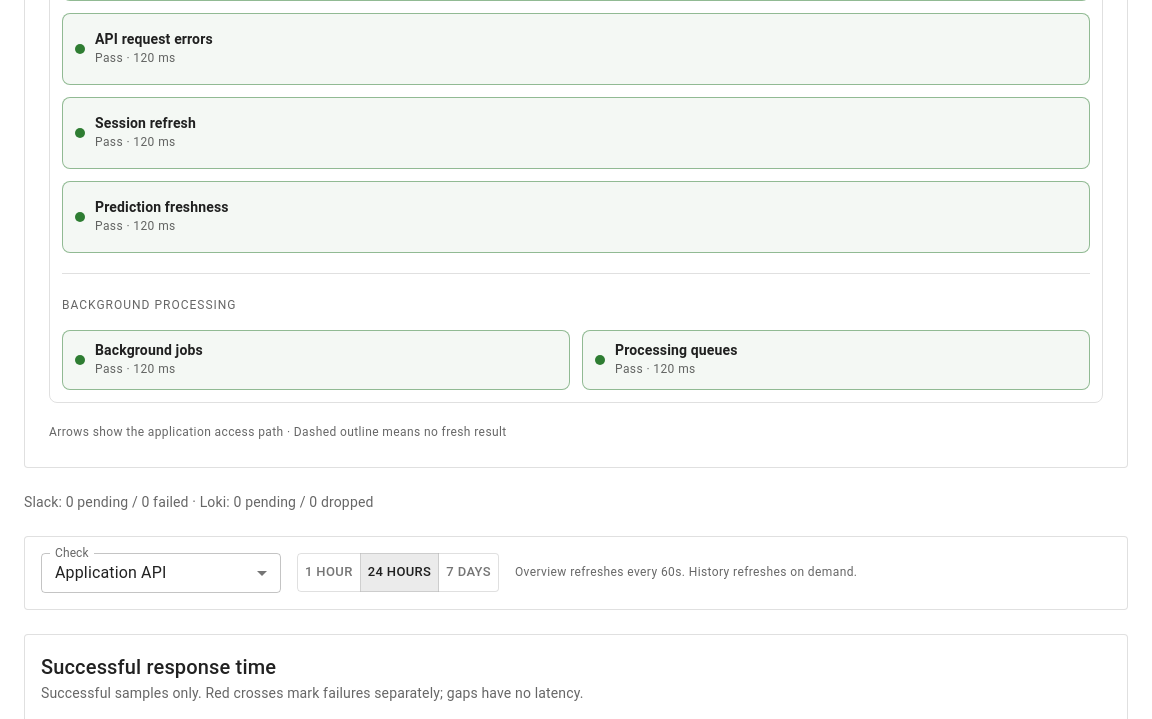
Test: keeps backend observations inside the backend group and selectable
The image size is (1152, 719).
(page scrolled)
Click the button with aria-label "Background jobs: Pass": (149, 350) 62,330 -> 570,390
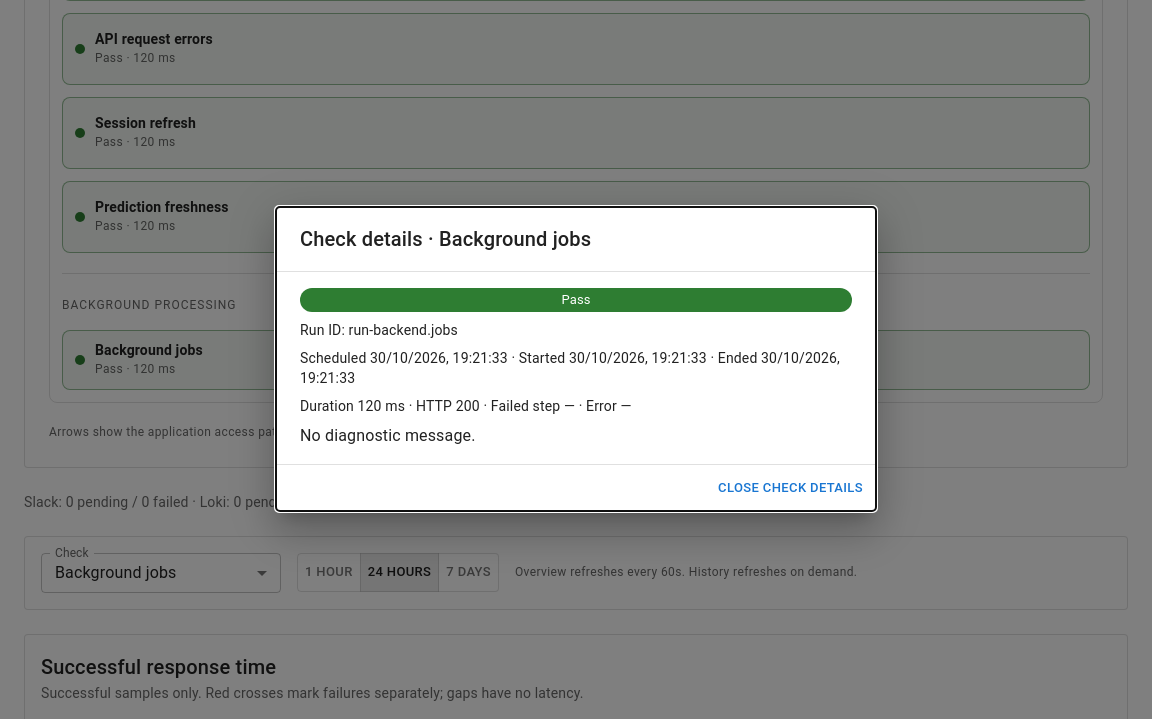
Now the heading "Check details · Background jobs" is shown, box 300,227 -> 591,251
